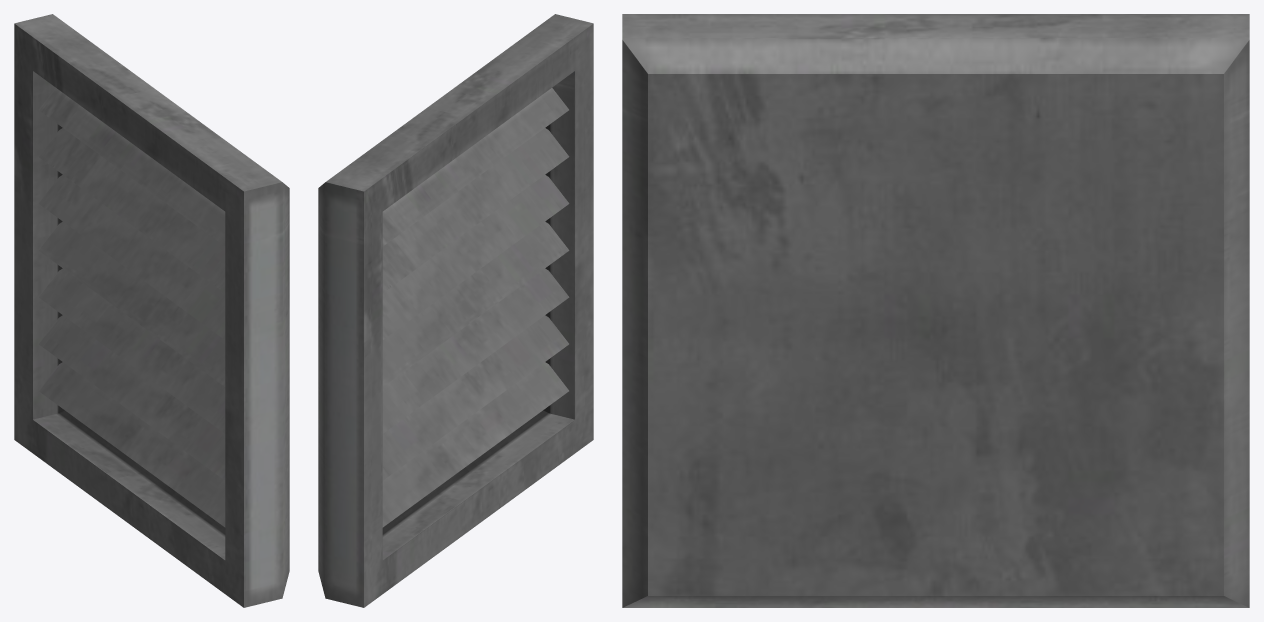
File: SM_Vent_Grill_01.glb
The picture shows the model from 3 angles, left to right: view 1: azimuth 30°, elevation 25°; view 2: azimuth 150°, elevation 25°; view 3: azimuth 270°, elevation 25°; orthographic projection. The views are drawn at different scales.
Parts seen in each view (by area): view 1: SM_Vent_Grill_01; view 2: SM_Vent_Grill_01; view 3: SM_Vent_Grill_01.
Part boxes in pixels (x1,y1,x2,y2): SM_Vent_Grill_01: (14,14,289,607); SM_Vent_Grill_01: (318,14,593,607); SM_Vent_Grill_01: (622,14,1249,607).
Size of the model in its own units: 0.0604 by 0.4355 by 0.4355.
Materials: 1 (1 with a texture image).
